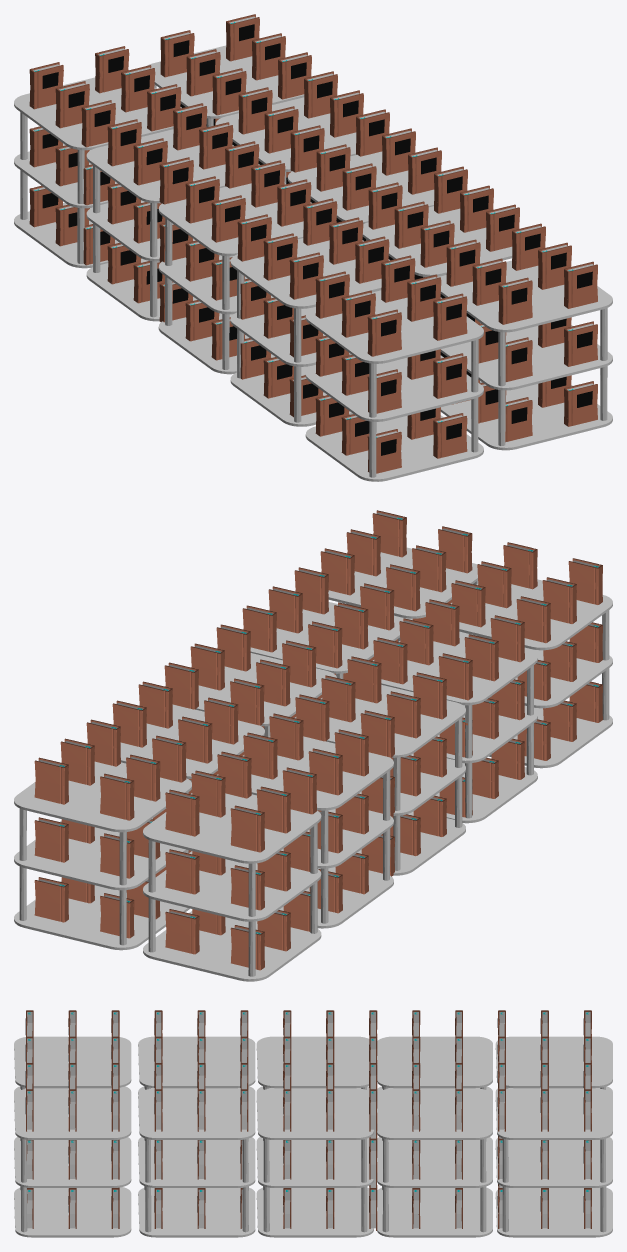
File: EstanteLibro5x2.obj
The picture shows the model from 3 angles, top to bottom: view 1: azimuth 30°, elevation 25°; view 2: azimuth 150°, elevation 25°; view 3: azimuth 270°, elevation 25°; orthographic projection. The views are drawn at different scales.
Parts seen in each view (by area): view 1: libro, Estantes5x5; view 2: libro, Estantes5x5; view 3: Estantes5x5, libro.
Part boxes in pixels (x1,y1,x2,y2): libro: (29, 14, 597, 473); Estantes5x5: (14, 45, 612, 481); libro: (34, 510, 602, 970); Estantes5x5: (14, 547, 612, 981); Estantes5x5: (14, 1036, 612, 1237); libro: (25, 1010, 591, 1230).
Bounding box in the file's own units: 4.1 × 2.44 × 10.21.
